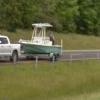Boat: (14, 17, 67, 63)
